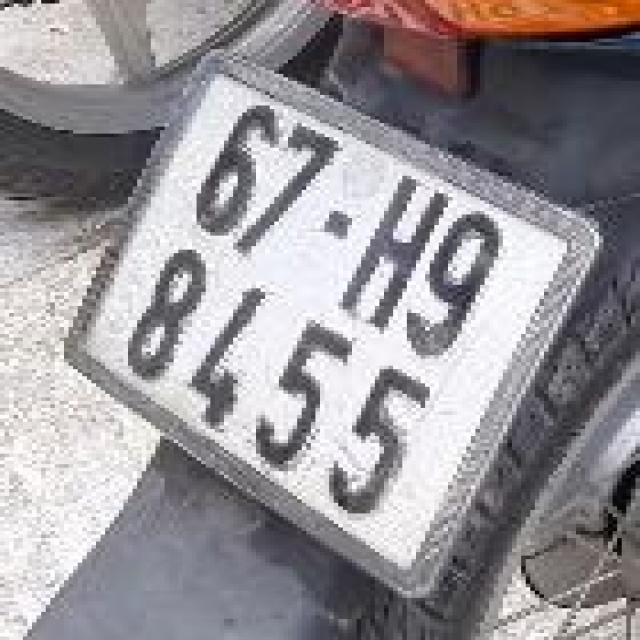4: (174, 274, 302, 434)
5: (236, 306, 368, 484), (316, 355, 448, 524)
6: (181, 95, 298, 253)
7: (220, 120, 357, 271)
8: (110, 239, 229, 396)
9: (387, 202, 519, 367)
H: (332, 162, 467, 341)
